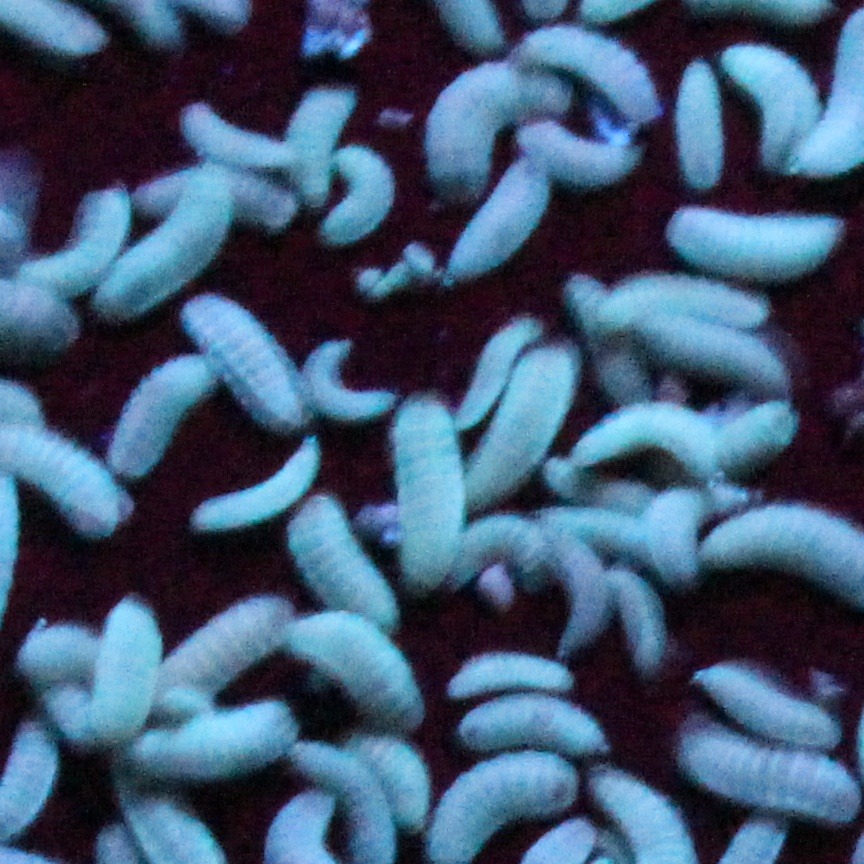larve: (431, 50, 565, 191), (287, 610, 429, 737), (100, 186, 232, 321), (185, 301, 300, 434), (390, 395, 466, 592), (99, 355, 219, 476), (668, 202, 842, 283), (189, 437, 320, 542), (164, 592, 291, 700), (287, 508, 399, 629), (724, 41, 827, 170), (442, 166, 559, 279), (522, 28, 663, 121), (476, 350, 567, 492), (130, 705, 295, 781), (696, 667, 839, 748), (560, 274, 646, 403), (586, 279, 770, 337), (643, 312, 780, 388), (150, 170, 296, 235), (347, 727, 434, 834), (578, 407, 712, 475), (96, 603, 156, 745), (604, 568, 679, 681), (531, 126, 641, 193), (438, 652, 579, 703), (304, 343, 393, 422), (539, 500, 648, 560), (468, 706, 603, 754), (290, 82, 340, 211), (184, 106, 285, 169), (675, 64, 724, 192), (553, 529, 601, 652), (326, 153, 390, 245), (718, 407, 798, 478), (645, 491, 706, 581), (467, 521, 548, 587), (462, 318, 508, 407), (23, 632, 95, 679)
